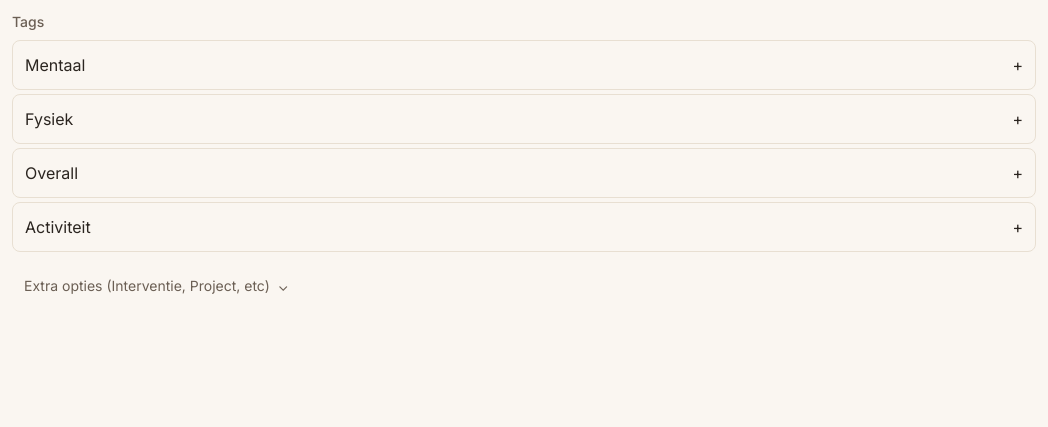
Test: <TagCategoryList /> › Enter submits: POST /api/tags with trimmed label + category, pending chip renders during save
Click the button "mentaal +".
click(55, 65)  # box [12,40,1036,90]
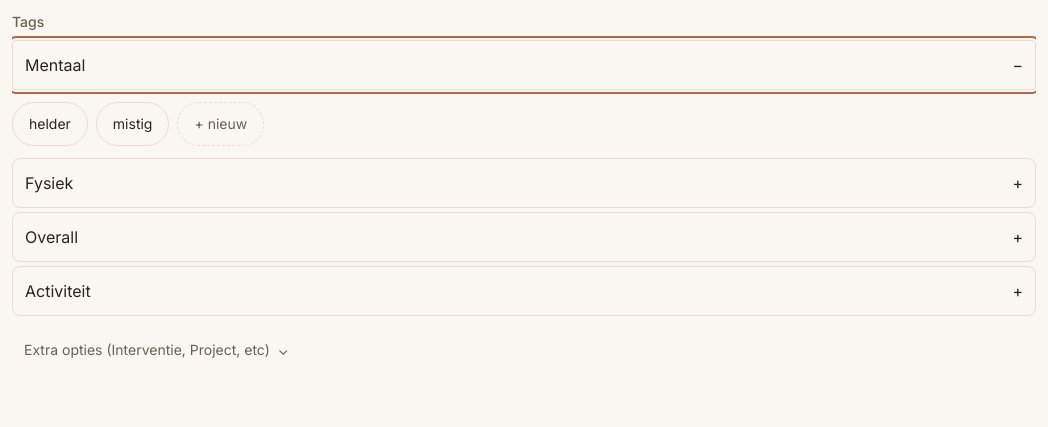
Click the button with aria-label "voeg tag toe aan mentaal".
click(221, 124)  # box [178,102,264,146]
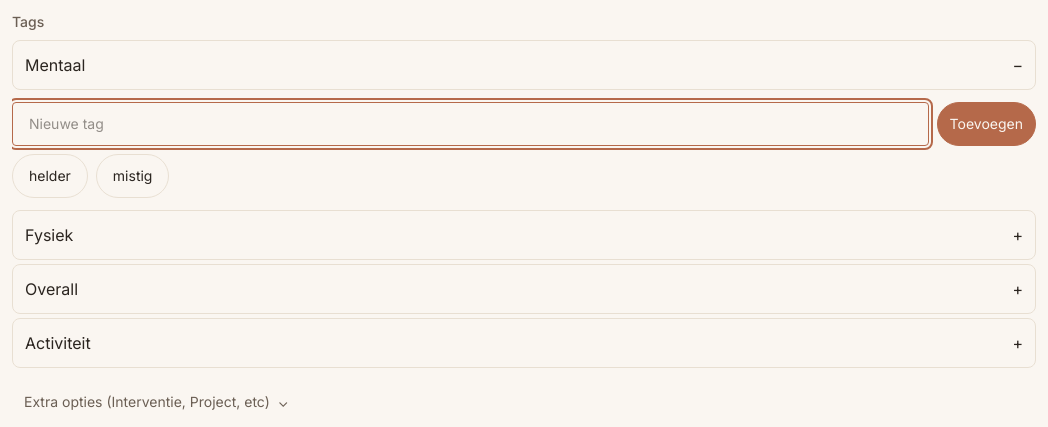
Type "  pacing  " into the field labelled "Nieuwe tag".
click(470, 124); type("  pacing  ")  # box [12,102,929,146]
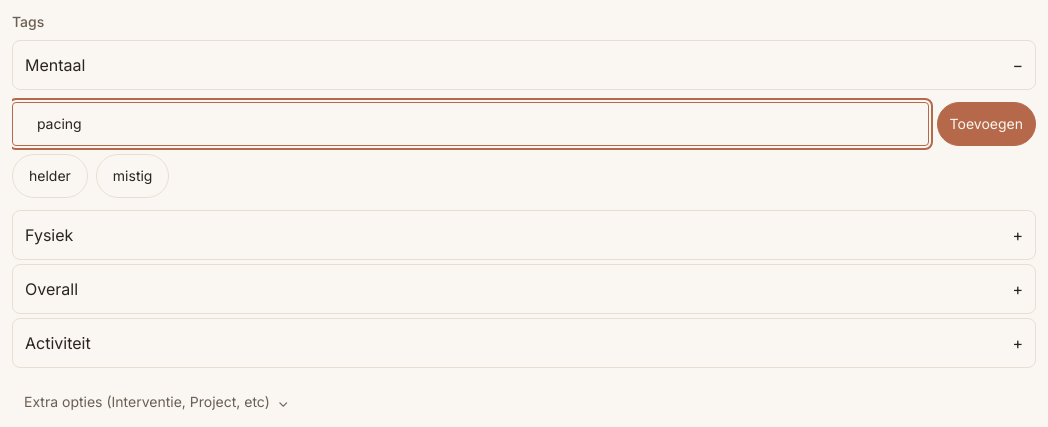
Press Enter
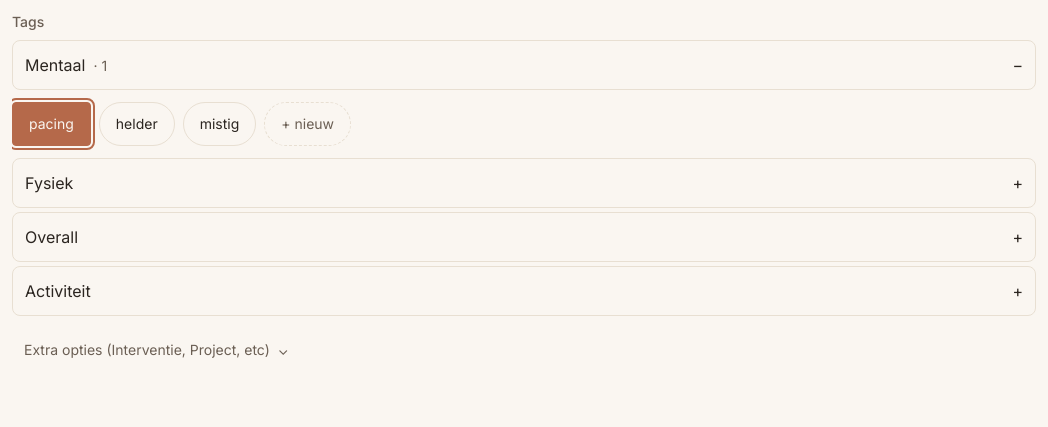
expect the button "pacing" is shown: met, box [12,102,91,146]
